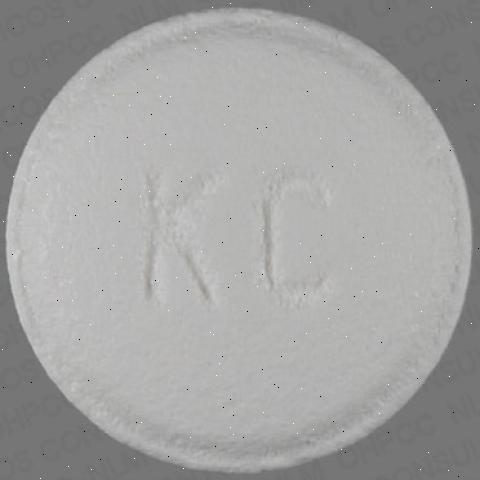Pill: (8, 7, 474, 477)
